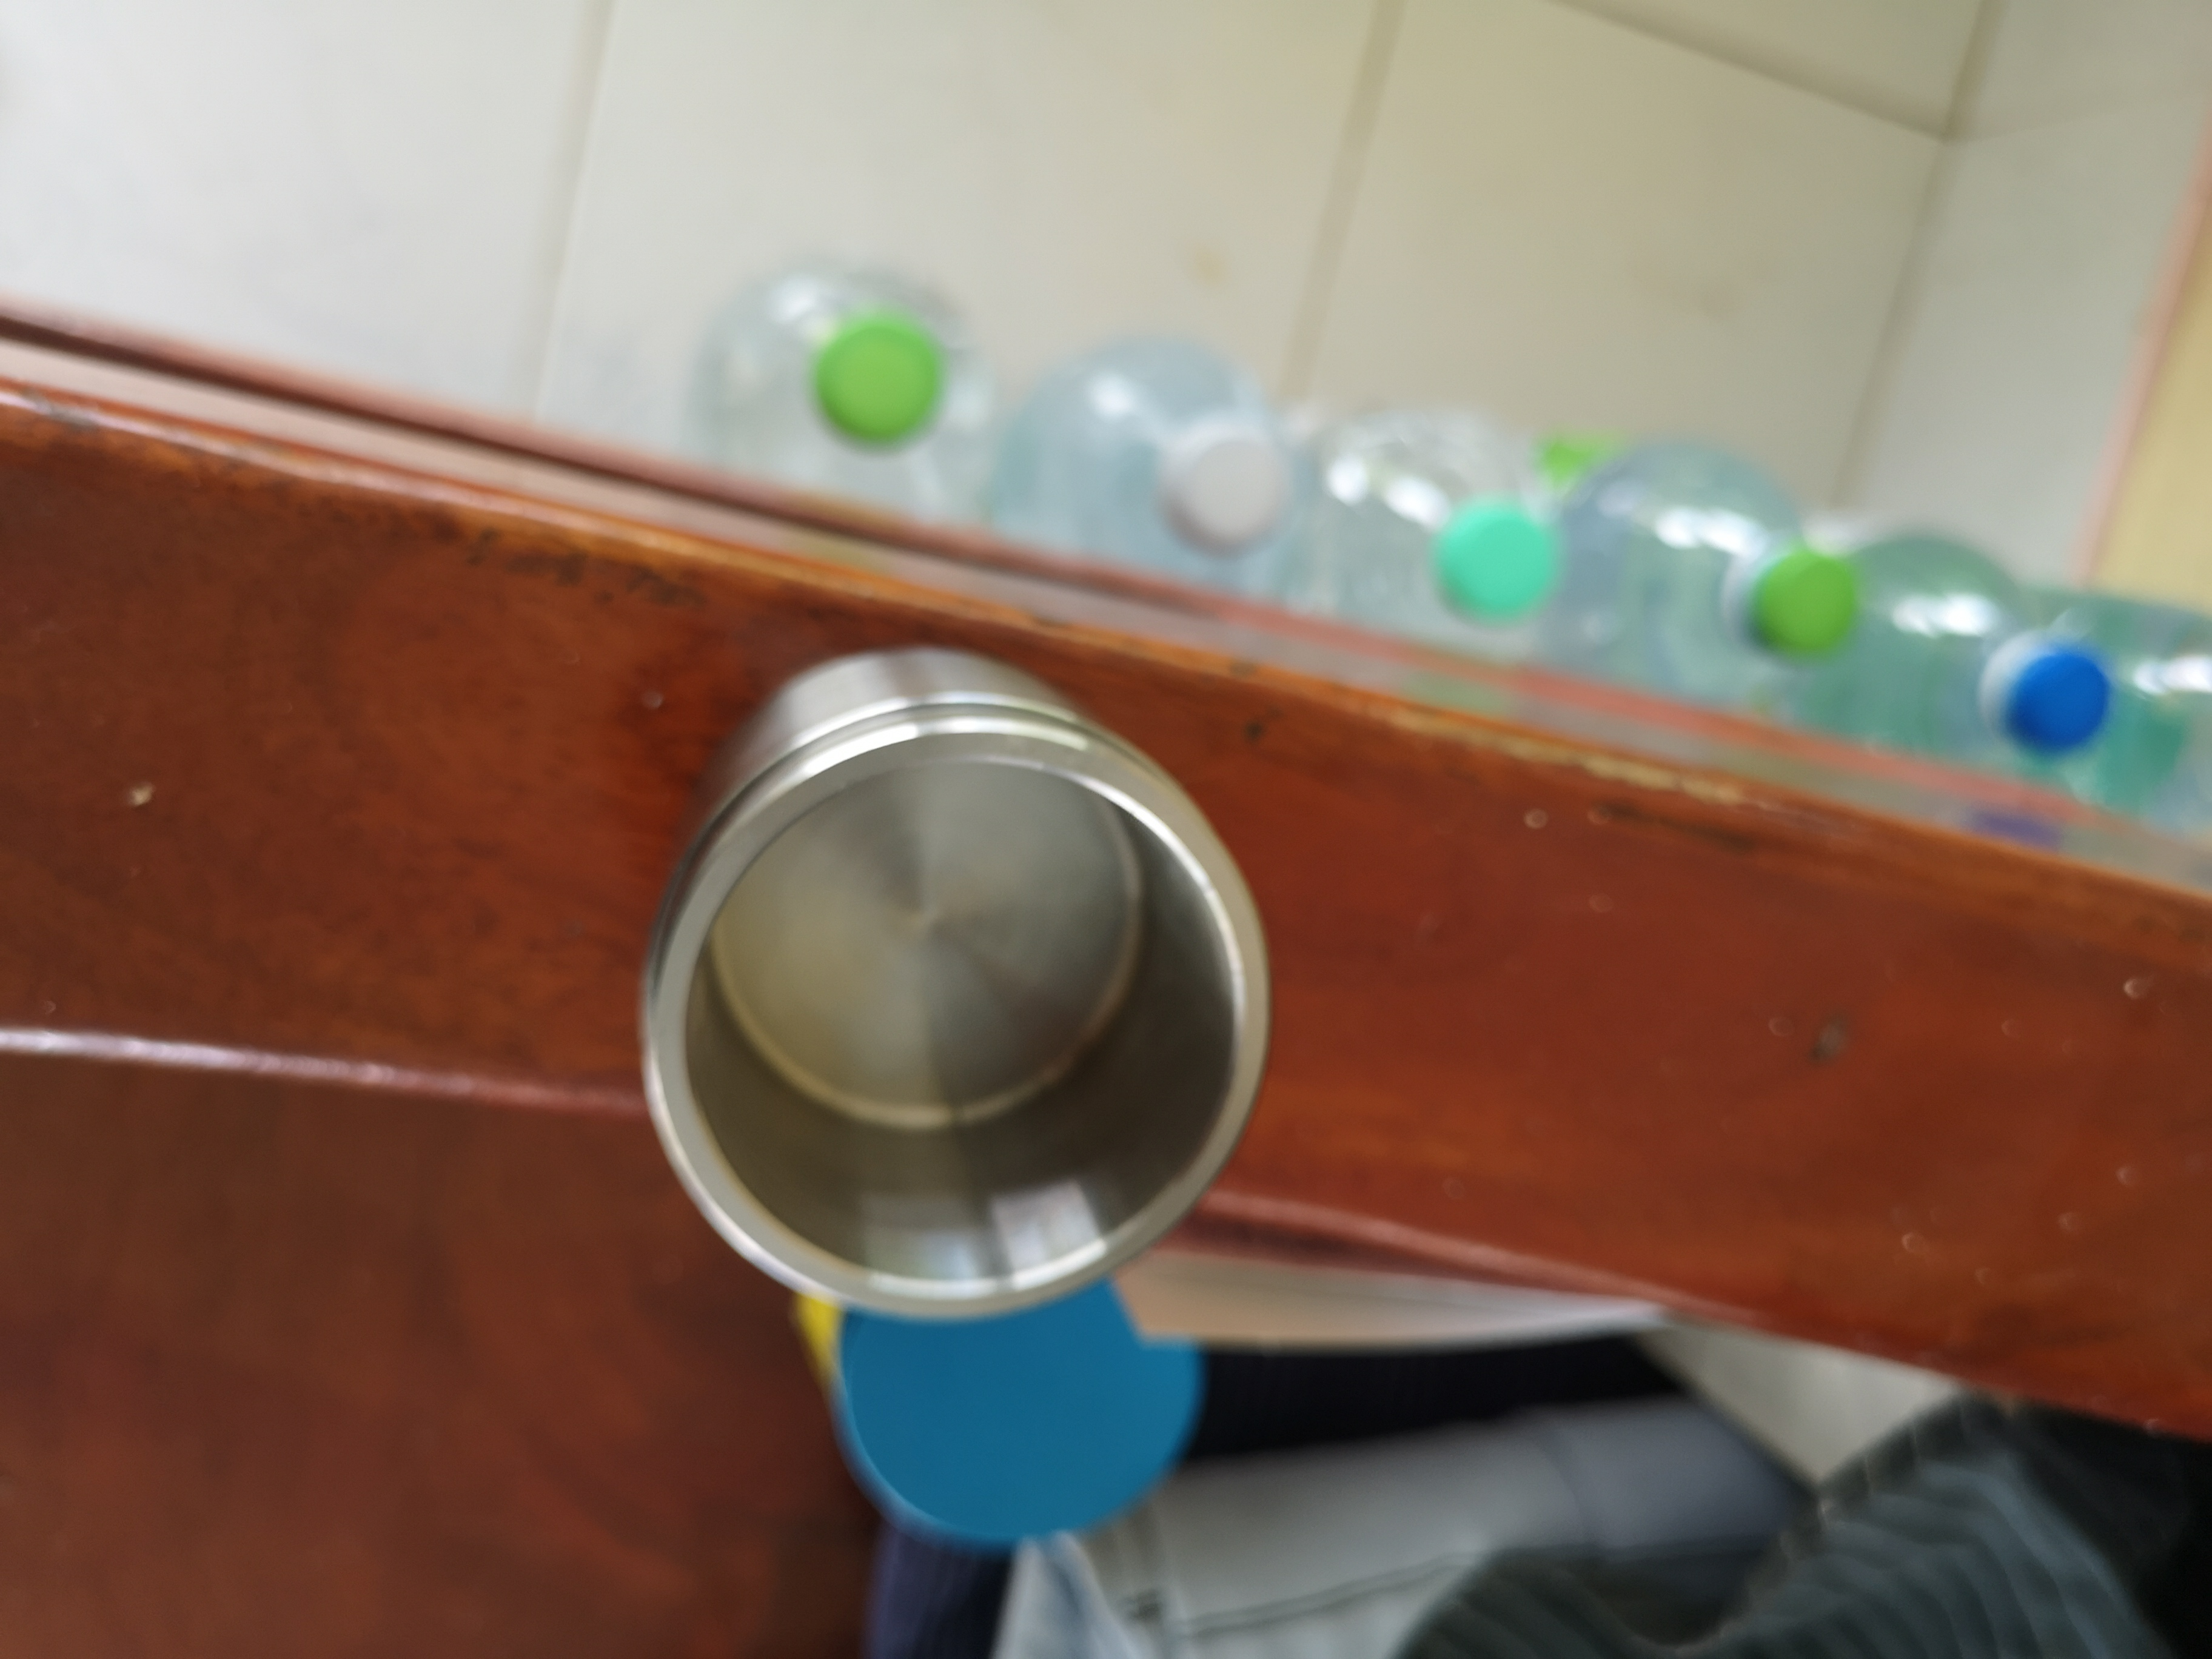ลูกสูบดิสเบรค: (550, 622, 1327, 1399)
